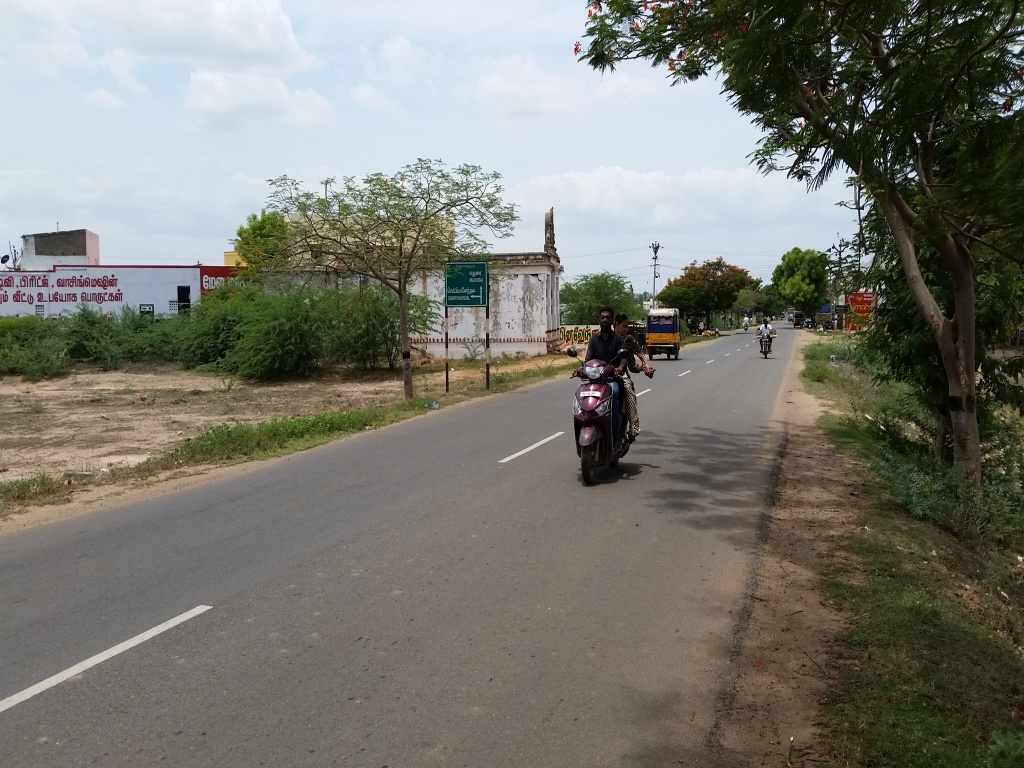biker: (554, 279, 671, 492)
nohelmet: (612, 307, 635, 343), (594, 301, 617, 337)
